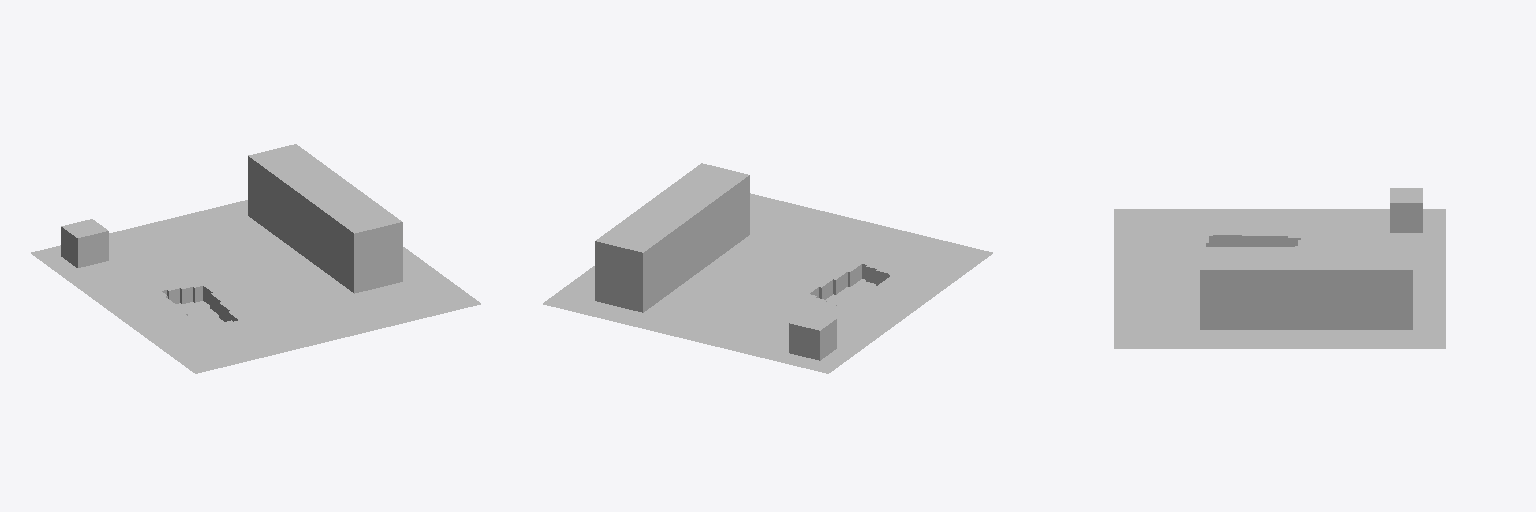
The model's file is test_room.obj.
The picture shows the model from 3 angles: view 1: azimuth 30°, elevation 25°; view 2: azimuth 150°, elevation 25°; view 3: azimuth 270°, elevation 25°; orthographic projection.
Visible parts, largest first — view 1: Plane; view 2: Plane; view 3: Plane.
Boxes of the visible parts, x1=… form: Plane: x1=31, y1=144, x2=480, y2=373; Plane: x1=543, y1=163, x2=992, y2=373; Plane: x1=1114, y1=188, x2=1445, y2=348.
Size of the model in its own units: 200 by 50 by 200.